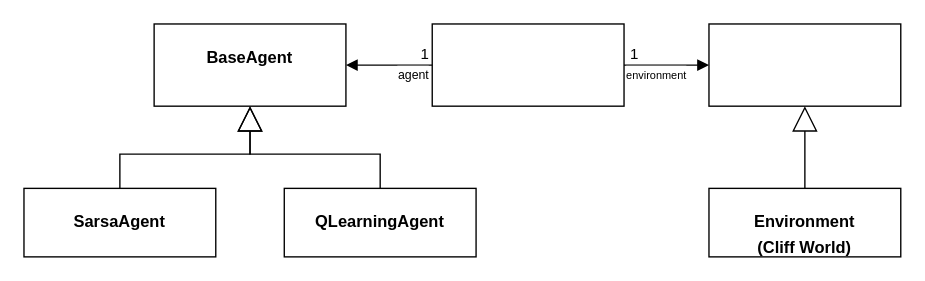
Some shapes in this 925 by 281 pixel diagram are drawn without their labels. The shapes that lost their labels are listed below. From the top down, each one's box as (x1, y1, x2, y2) in pixels, then its label:
(431, 23, 624, 106): RLGlue
(708, 23, 901, 106): BaseEnvironment
